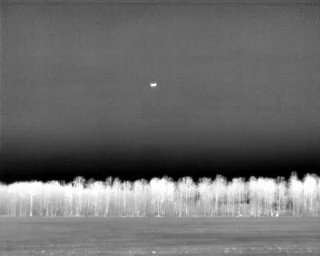DRONE: (147, 78, 161, 91)
